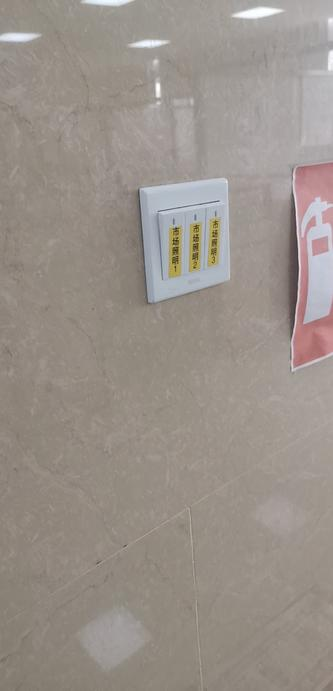switch: (159, 207, 185, 283), (203, 202, 225, 271), (184, 207, 205, 274)
